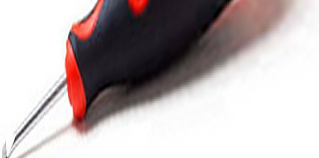Screwdriver: (6, 1, 238, 156)
